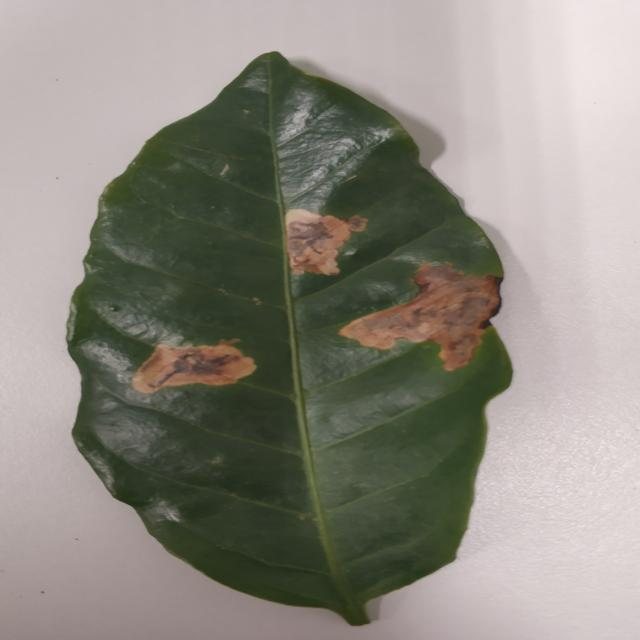Plaga-Minador: (65, 52, 515, 630)
